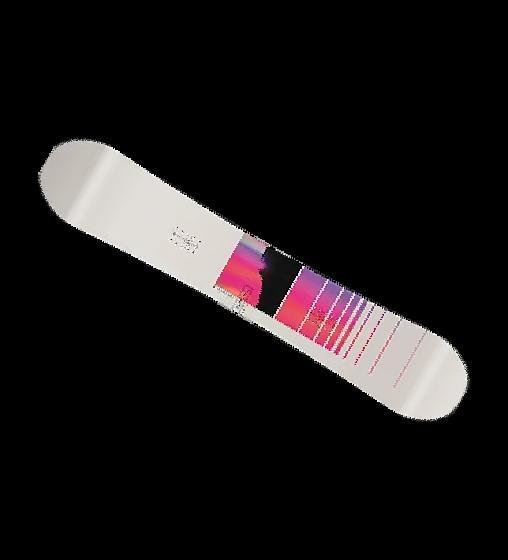Snowboard: (27, 127, 496, 440)
